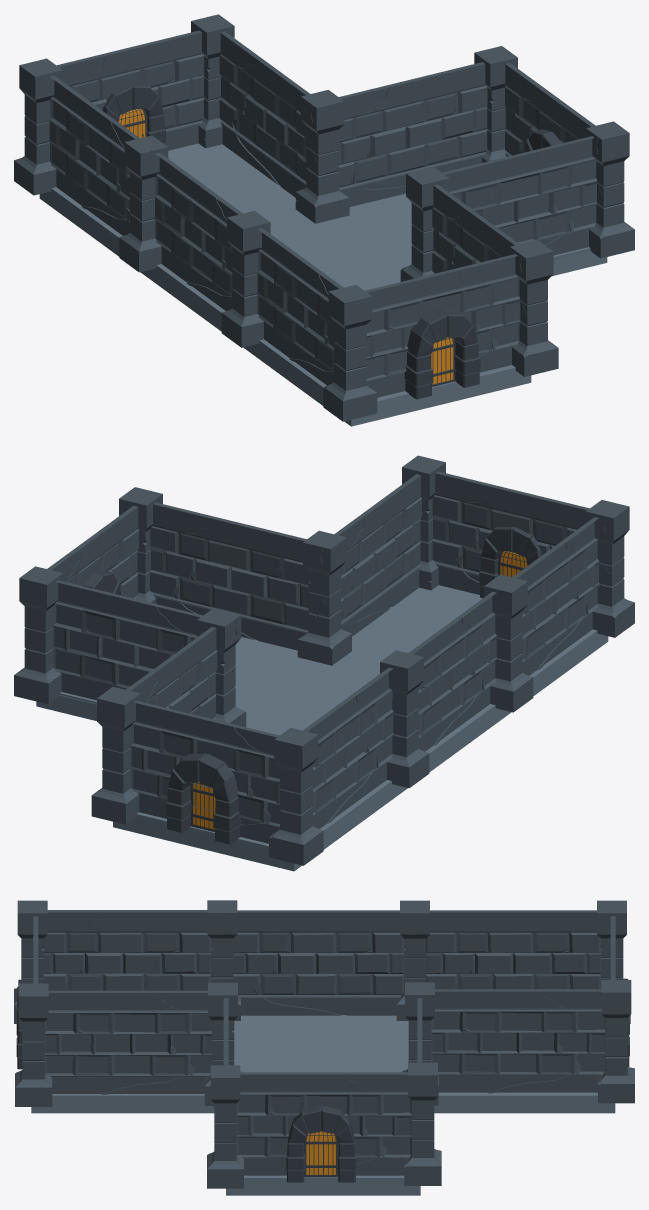
Rendered from Room3T.obj.
The picture shows the model from 3 angles, top to bottom: view 1: azimuth 30°, elevation 25°; view 2: azimuth 150°, elevation 25°; view 3: azimuth 270°, elevation 25°; orthographic projection. The views are drawn at different scales.
Visible parts, largest first — view 1: Pillar+Wall.017, Pillar+Wall.021, Pillar+Wall.020, Cube.253, Pillar+Wall.019, Pillar+Wall.016, Pillar+Wall.022, Arch.014, Arch.016, door.009, door.015; view 2: Pillar+Wall.017, Pillar+Wall.020, Pillar+Wall.021, Cube.253, Pillar+Wall.016, Pillar+Wall.019, Pillar+Wall.022, Arch.016, Arch.014, door.015, Arch.015, door.009; view 3: Pillar+Wall.017, Pillar+Wall.021, Pillar+Wall.020, Cube.253, Pillar+Wall.022, Pillar+Wall.016, Arch.015, Pillar+Wall.019, door.014, Arch.014.
Boxes of the visible parts, x1,y1,x2,y2 form: Pillar+Wall.017: (14,58,343,385); Pillar+Wall.021: (219,31,517,223); Pillar+Wall.020: (400,136,597,376); Cube.253: (39,143,607,426); Pillar+Wall.019: (323,254,520,421); Pillar+Wall.016: (57,14,234,150); Pillar+Wall.022: (505,63,634,258); Arch.014: (404,308,480,399); Arch.016: (102,83,165,144); door.009: (431,337,455,386); door.015: (118,109,147,138); Pillar+Wall.017: (269,517,599,865); Pillar+Wall.020: (150,455,445,665); Pillar+Wall.021: (14,566,246,727); Cube.253: (36,585,608,871); Pillar+Wall.016: (91,686,280,847); Pillar+Wall.019: (432,471,634,637); Pillar+Wall.022: (47,487,162,603); Arch.016: (166,753,240,844); Arch.014: (479,526,541,598); door.015: (190,782,215,831); Arch.015: (83,570,120,595); door.009: (497,551,527,577); Pillar+Wall.017: (43,900,630,1023); Pillar+Wall.021: (401,982,605,1185); Pillar+Wall.020: (15,982,241,1106); Cube.253: (31,1015,615,1195); Pillar+Wall.022: (207,1065,411,1188); Pillar+Wall.016: (598,916,634,1103); Arch.015: (286,1105,356,1182); Pillar+Wall.019: (14,900,47,1023); door.014: (304,1131,338,1177); Arch.014: (16,979,42,1069).
Bounding box in the file's own units: 10.98 × 3.51 × 15.94.
Materials: 1 (1 with a texture image).
